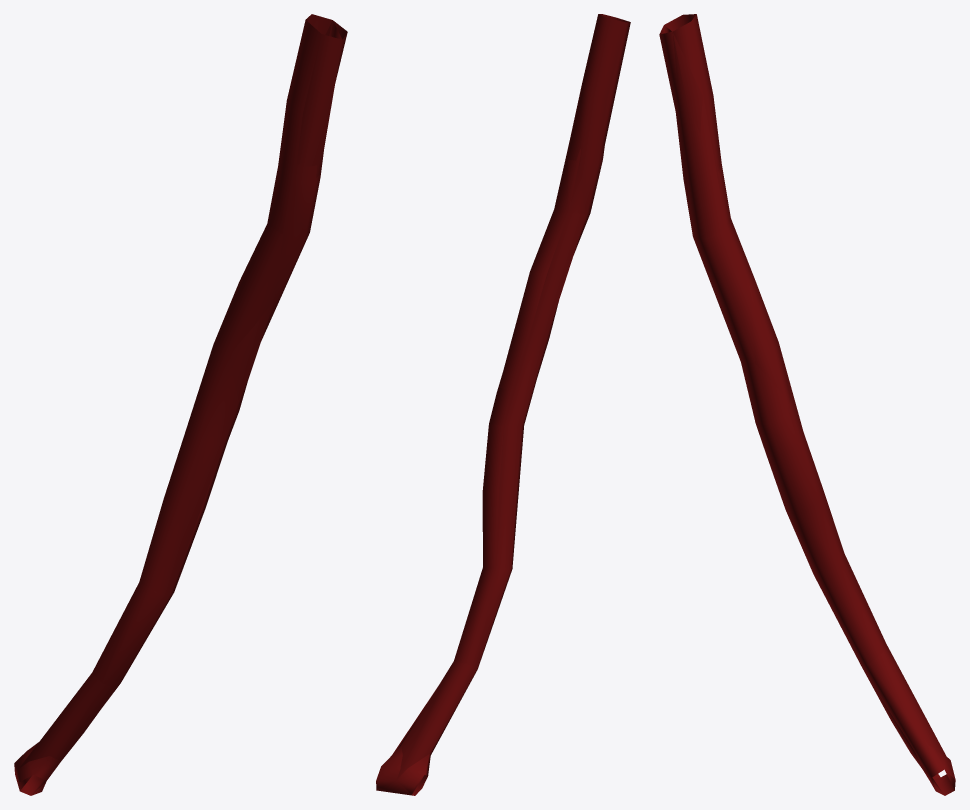
The model's file is R ramus caudalis.fbx.
The picture shows the model from 3 angles, left to right: view 1: azimuth 90°, elevation 25°; view 2: azimuth 150°, elevation 25°; view 3: azimuth 270°, elevation 25°; orthographic projection. The views are drawn at different scales.
Parts seen in each view (by area): view 1: R ramus caudalis low, R ramus caudalis; view 2: R ramus caudalis, R ramus caudalis low; view 3: R ramus caudalis, R ramus caudalis low.
Part boxes in pixels (bbox=[...]): R ramus caudalis low: bbox=[15, 14, 342, 794]; R ramus caudalis: bbox=[14, 14, 347, 795]; R ramus caudalis: bbox=[376, 14, 626, 795]; R ramus caudalis low: bbox=[376, 14, 630, 795]; R ramus caudalis: bbox=[659, 14, 955, 795]; R ramus caudalis low: bbox=[664, 14, 954, 794].
Size of the model in its own units: 1.53 by 8.53 by 3.15.
